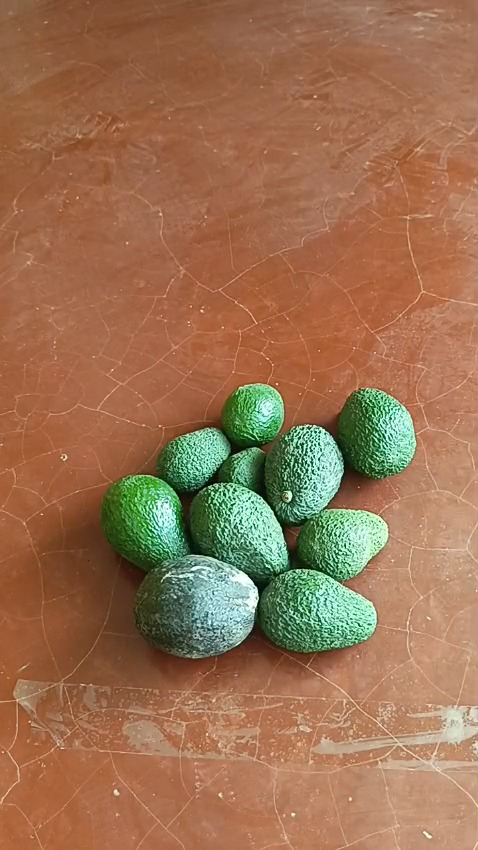Primera: (133, 558, 261, 657), (189, 482, 291, 585), (258, 569, 377, 652), (98, 474, 188, 572), (264, 425, 345, 527), (336, 389, 416, 480)
Segunda: (295, 509, 390, 582), (156, 429, 230, 496), (220, 382, 286, 447)
Tercera: (220, 448, 268, 496)
